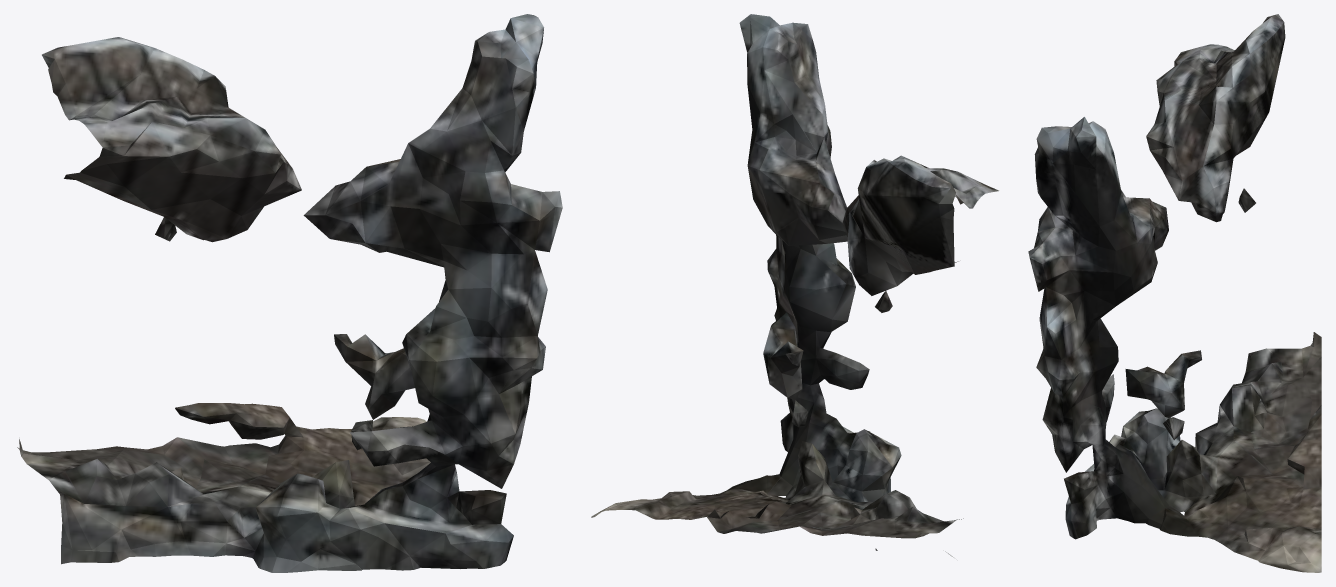
The picture shows the model from 3 angles, left to right: view 1: azimuth 30°, elevation 25°; view 2: azimuth 150°, elevation 25°; view 3: azimuth 270°, elevation 25°; orthographic projection. The views are drawn at different scales.
Bounding box in the file's own units: 0.9495 × 1.15 × 0.7146.
Materials: 2 (2 with a texture image).
